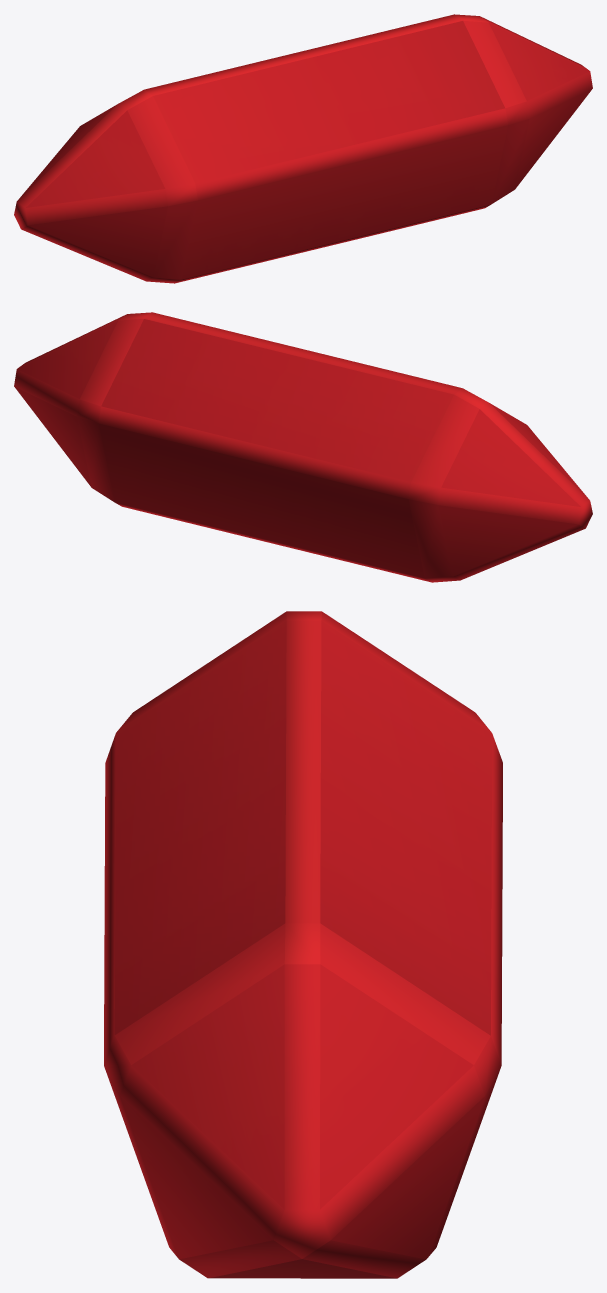
Rendered from christal_ruby_1.fbx.
3 views of the same model, one above another, from view 1: azimuth 30°, elevation 25°; view 2: azimuth 150°, elevation 25°; view 3: azimuth 270°, elevation 25° (orthographic). The views are drawn at different scales.
Parts seen in each view (by area): view 1: christal_ruby_1; view 2: christal_ruby_1; view 3: christal_ruby_1.
Boxes of the visible parts, x1=… form: christal_ruby_1: x1=14, y1=14, x2=592, y2=283; christal_ruby_1: x1=14, y1=312, x2=592, y2=582; christal_ruby_1: x1=104, y1=611, x2=502, y2=1278.
Size of the model in its own units: 110 by 31.95 by 33.68.
Materials: 1 (1 with a texture image).
